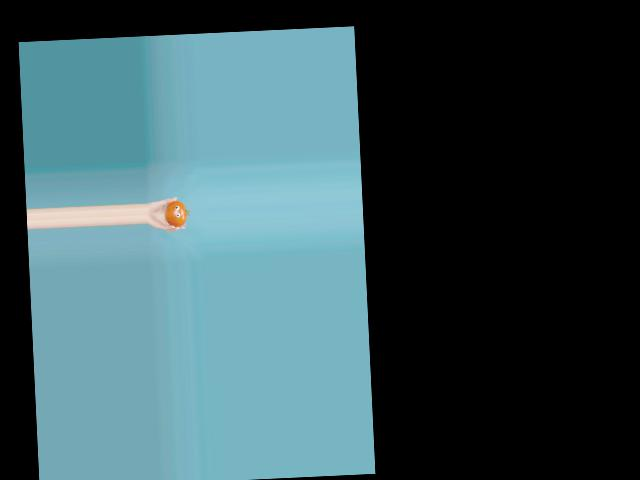tomato: (163, 199, 187, 227)
